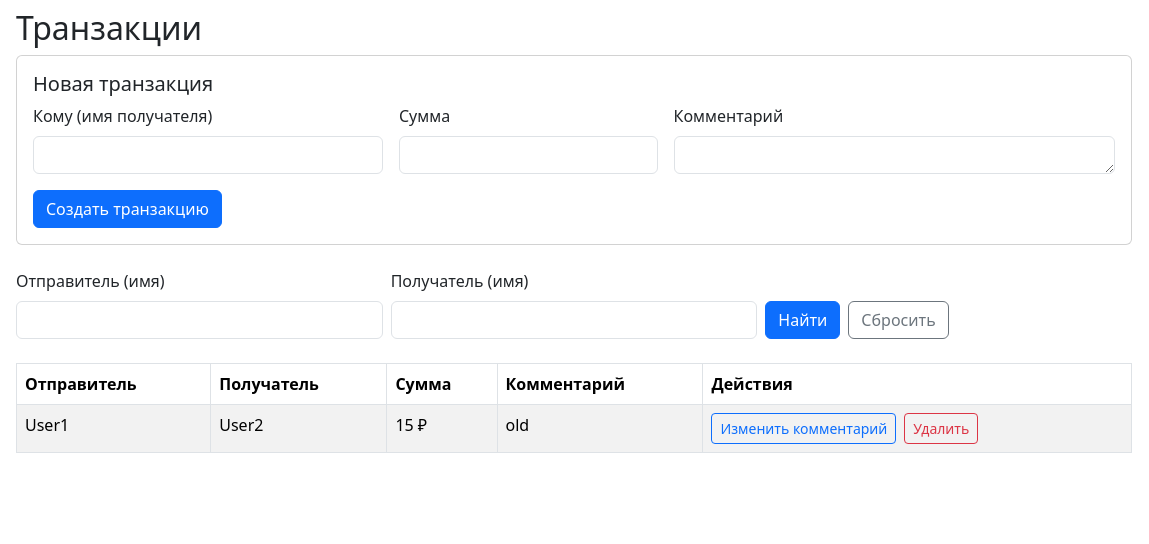
Test: Transactions page › updates transaction comment inline
Click the button "Изменить комментарий" at (804, 429), box [711,413,896,444]
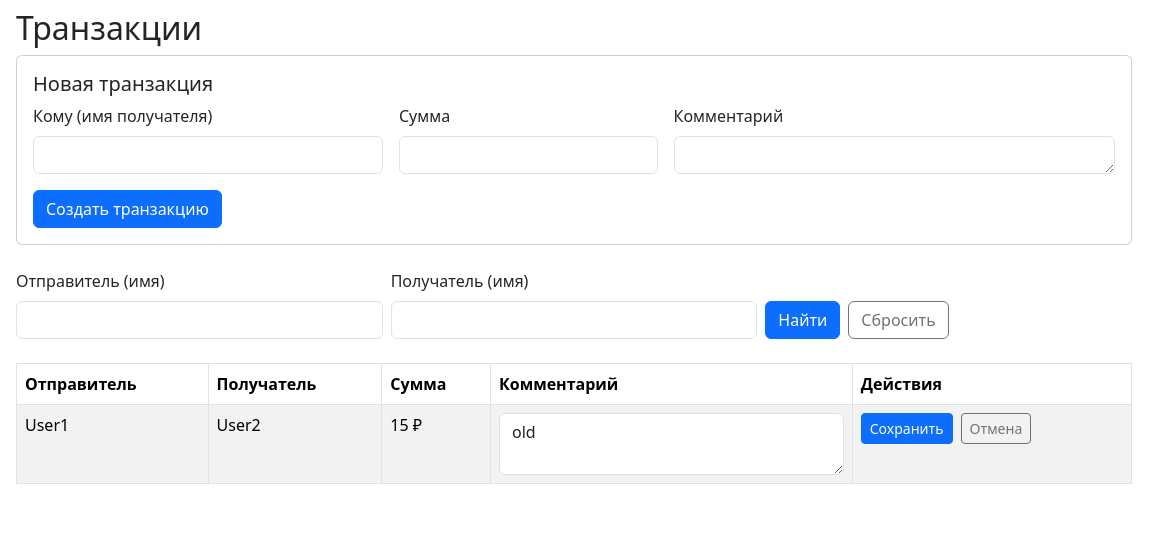
Replace the text in the text box named "комментарий транзакции 42" with "new comment" at (671, 444), box [499,413,844,475]
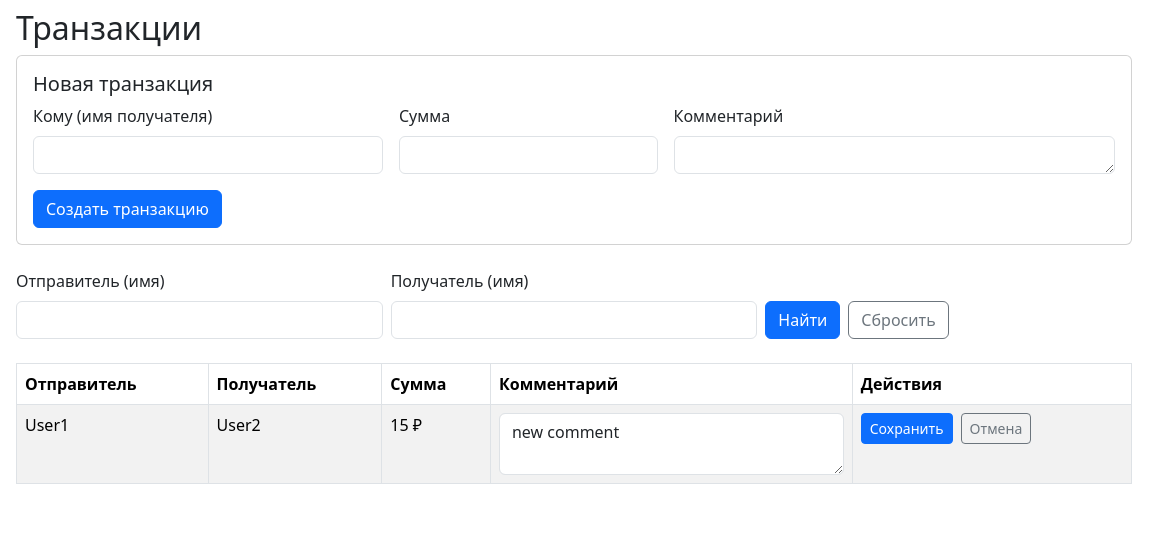
Click the button "Сохранить" at (907, 429), box [861,413,953,444]
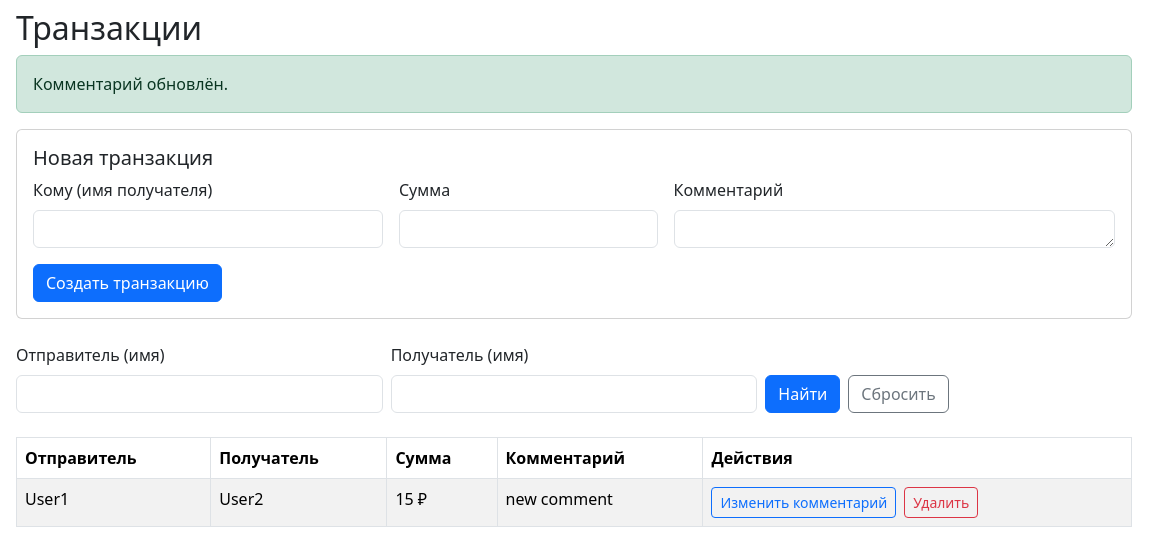
Check: the text "new comment" is shown, box [497,479,703,527]
